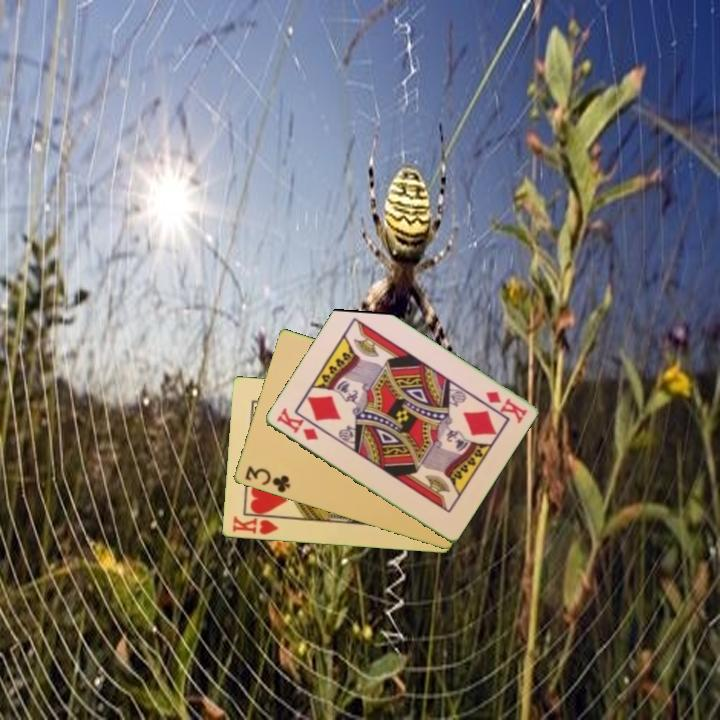3c: (241, 462, 293, 496)
Kd: (273, 405, 321, 443), (482, 388, 530, 426)
Kh: (229, 512, 284, 538)
